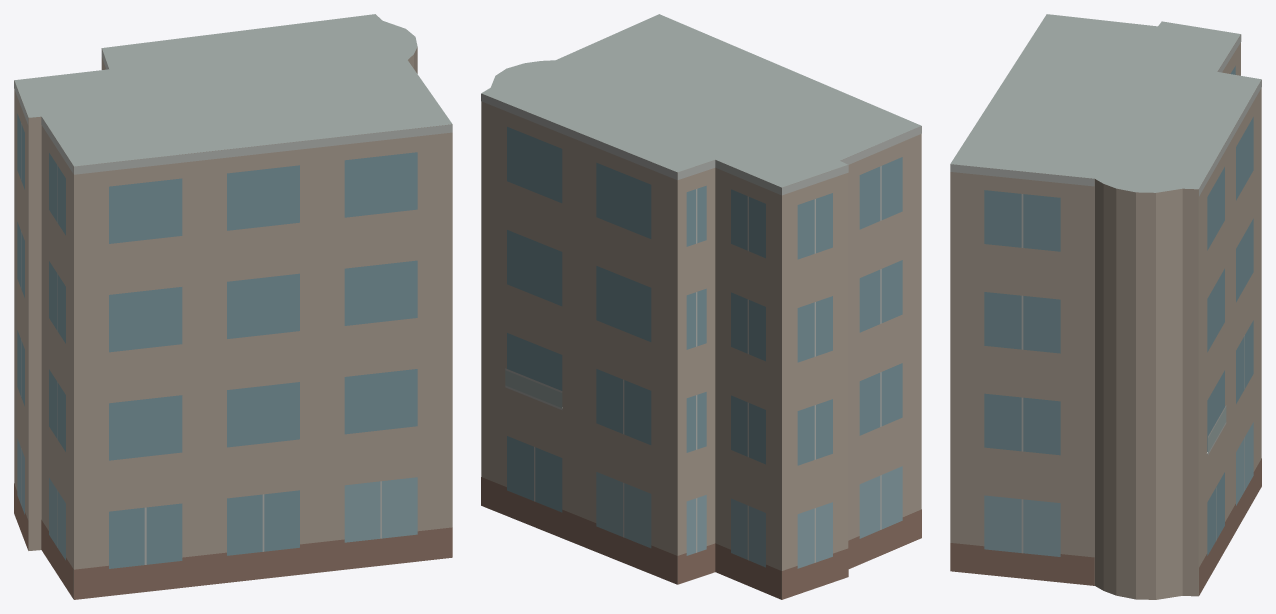
The model's file is survey-upis-32513386.glb.
3 renders of one model, left to right at view 1: azimuth 30°, elevation 25°; view 2: azimuth 150°, elevation 25°; view 3: azimuth 270°, elevation 25°, orthographic. The views are drawn at different scales.
Visible parts, largest first — view 1: survey-upis-32513386.tmp; view 2: survey-upis-32513386.tmp; view 3: survey-upis-32513386.tmp.
Part boxes in pixels (box(x1,y1,x2,y2)): survey-upis-32513386.tmp: box(14, 14, 452, 599); survey-upis-32513386.tmp: box(481, 14, 921, 599); survey-upis-32513386.tmp: box(950, 14, 1261, 599).
Size of the model in its own units: 12.06 by 12.8 by 8.89.
